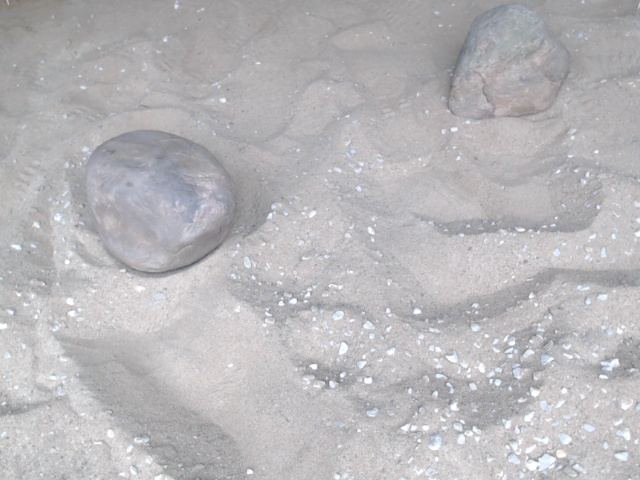rock: (80, 125, 242, 278), (442, 1, 577, 123)
